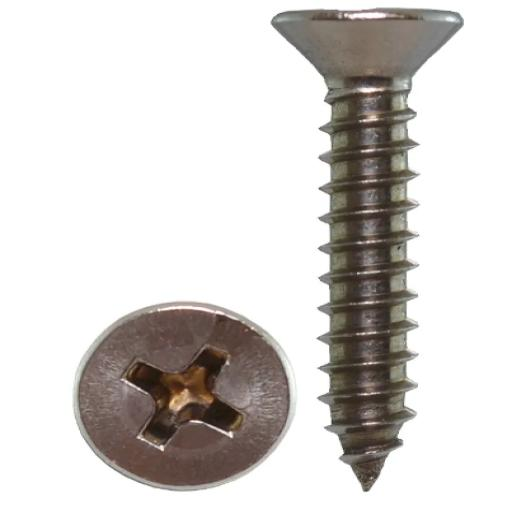Phillips: (75, 306, 294, 490)
